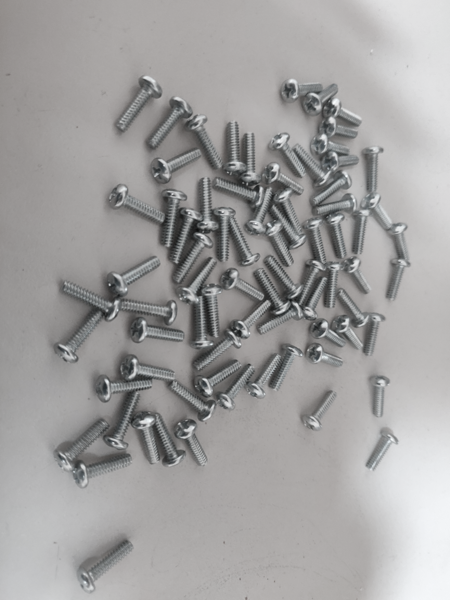shortscrew: (54, 419, 110, 472), (77, 542, 134, 594), (115, 76, 163, 134), (59, 280, 122, 323), (55, 309, 104, 363), (146, 96, 194, 150), (108, 184, 165, 225), (185, 114, 224, 170), (108, 256, 161, 297), (167, 380, 217, 423), (193, 329, 243, 372), (103, 392, 140, 450), (72, 454, 133, 489), (173, 232, 214, 284), (150, 148, 202, 186), (215, 363, 256, 411), (192, 360, 242, 398), (264, 255, 305, 301), (170, 208, 203, 264), (246, 352, 284, 400), (255, 268, 292, 317), (269, 133, 308, 179), (153, 413, 186, 467), (293, 143, 333, 187), (270, 203, 308, 249), (228, 214, 261, 266), (269, 343, 304, 392), (230, 299, 272, 339), (174, 419, 208, 468), (213, 177, 265, 209), (131, 412, 161, 467), (309, 170, 353, 207), (273, 188, 305, 238), (257, 302, 304, 336), (161, 189, 188, 248), (120, 355, 176, 383), (95, 376, 153, 403), (120, 299, 178, 326), (220, 268, 266, 302), (263, 162, 306, 196), (265, 220, 295, 268), (130, 317, 185, 343), (365, 430, 399, 472), (301, 391, 336, 431), (246, 186, 274, 236), (335, 288, 369, 329), (196, 177, 220, 233), (299, 260, 327, 307), (224, 121, 247, 176), (300, 276, 328, 321), (303, 83, 340, 117), (214, 207, 236, 264), (322, 98, 363, 128), (302, 217, 327, 263), (386, 258, 412, 302), (342, 257, 372, 295), (331, 316, 363, 350), (325, 212, 348, 259), (361, 194, 391, 230), (309, 319, 346, 348), (280, 79, 324, 103), (313, 193, 357, 217), (363, 146, 385, 192), (305, 343, 345, 368), (364, 314, 387, 357), (352, 209, 373, 256), (310, 134, 353, 156), (320, 117, 359, 140), (322, 151, 360, 173), (371, 376, 391, 417), (390, 223, 411, 262)
